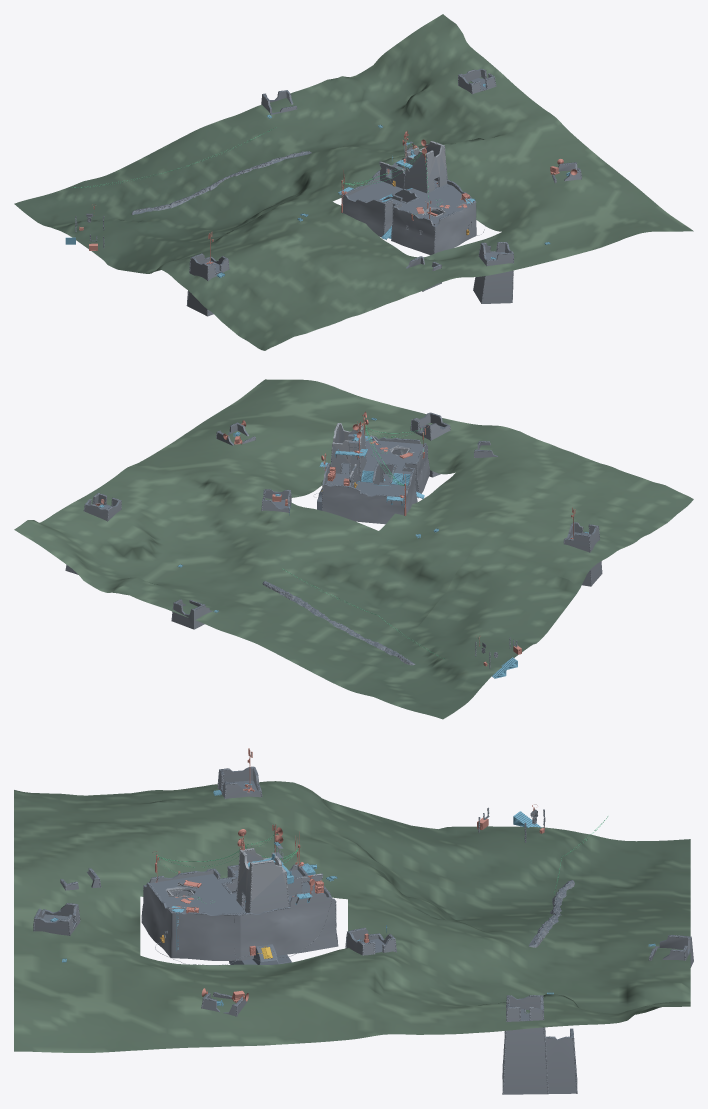
Rendered from fort.glb.
3 views of the same model, one above another, from view 1: azimuth 30°, elevation 25°; view 2: azimuth 150°, elevation 25°; view 3: azimuth 270°, elevation 25° (orthographic). The views are drawn at different scales.
Visible parts, largest first — view 1: terrain, shell_walls, machinery, roof_ceiling, walkways; view 2: terrain, shell_walls, walkways, machinery, roof_ceiling; view 3: terrain, shell_walls, roof_ceiling, machinery, walkways.
Boxes of the visible parts, left/top/right/bottom form: terrain: left=14, top=14, right=693, bottom=350; shell_walls: left=75, top=68, right=581, bottom=316; machinery: left=79, top=130, right=577, bottom=264; roof_ceiling: left=341, top=141, right=472, bottom=216; walkways: left=65, top=84, right=569, bottom=277; terrain: left=14, top=379, right=693, bottom=719; shell_walls: left=65, top=412, right=602, bottom=668; walkways: left=99, top=417, right=588, bottom=678; machinery: left=95, top=411, right=575, bottom=666; roof_ceiling: left=322, top=423, right=414, bottom=504; terrain: left=14, top=781, right=690, bottom=1052; shell_walls: left=33, top=766, right=693, bottom=1094; roof_ceiling: left=167, top=848, right=321, bottom=909; machinery: left=152, top=748, right=544, bottom=1002; walkways: left=50, top=783, right=655, bottom=1006.
Bounding box in the file's own units: 152 × 42.58 × 151.
